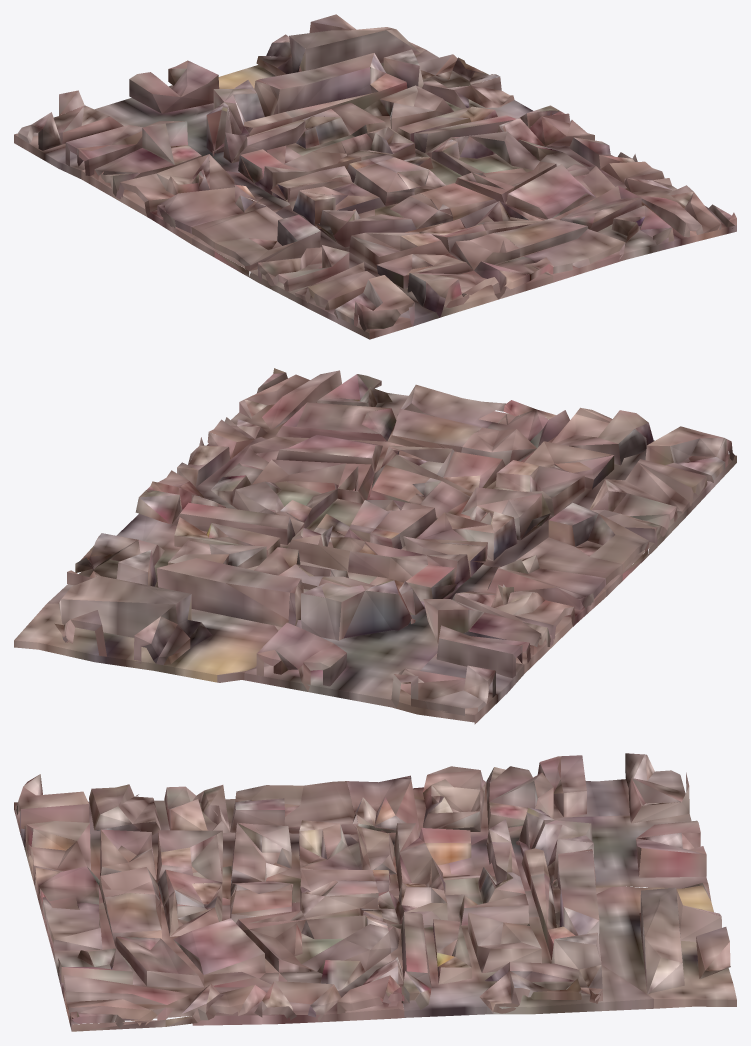
3 renders of one model, top to bottom at view 1: azimuth 30°, elevation 25°; view 2: azimuth 150°, elevation 25°; view 3: azimuth 270°, elevation 25°, orthographic. The views are drawn at different scales.
Visible parts, largest first — view 1: Mesh_0; view 2: Mesh_0; view 3: Mesh_0.
Part boxes in pixels (x1,y1,x2,y2): Mesh_0: (14,14,736,339); Mesh_0: (14,368,736,724); Mesh_0: (14,753,736,1031).
Bounding box in the file's own units: 532 × 61.92 × 659.
2 materials, 2 textured.
